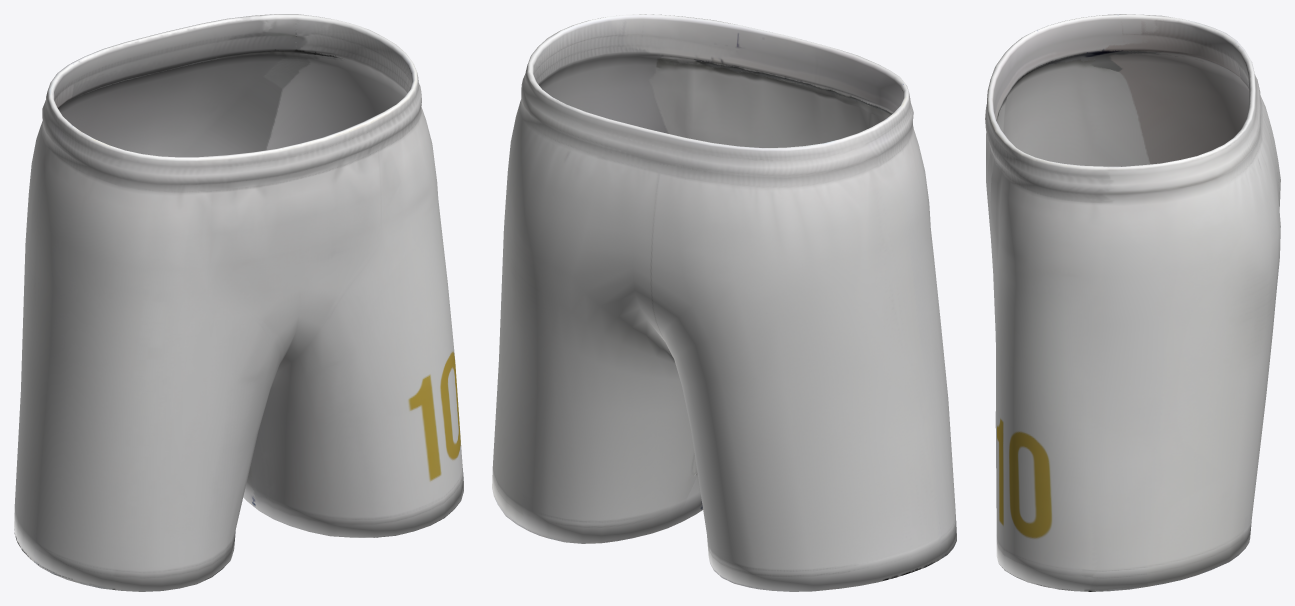
File: SHORTS.glb
3 views of the same model, side by side, from view 1: azimuth 30°, elevation 25°; view 2: azimuth 150°, elevation 25°; view 3: azimuth 270°, elevation 25° (orthographic). The views are drawn at different scales.
Parts seen in each view (by area): view 1: mesh_rep_0_ori_repair_quad.005; view 2: mesh_rep_0_ori_repair_quad.005; view 3: mesh_rep_0_ori_repair_quad.005.
Boxes of the visible parts, x1,y1,x2,y2 form: mesh_rep_0_ori_repair_quad.005: (14, 14, 463, 591); mesh_rep_0_ori_repair_quad.005: (492, 14, 956, 591); mesh_rep_0_ori_repair_quad.005: (985, 14, 1280, 591).
Bounding box in the file's own units: 0.4073 × 0.4033 × 0.262.
Materials: 1 (1 with a texture image).
